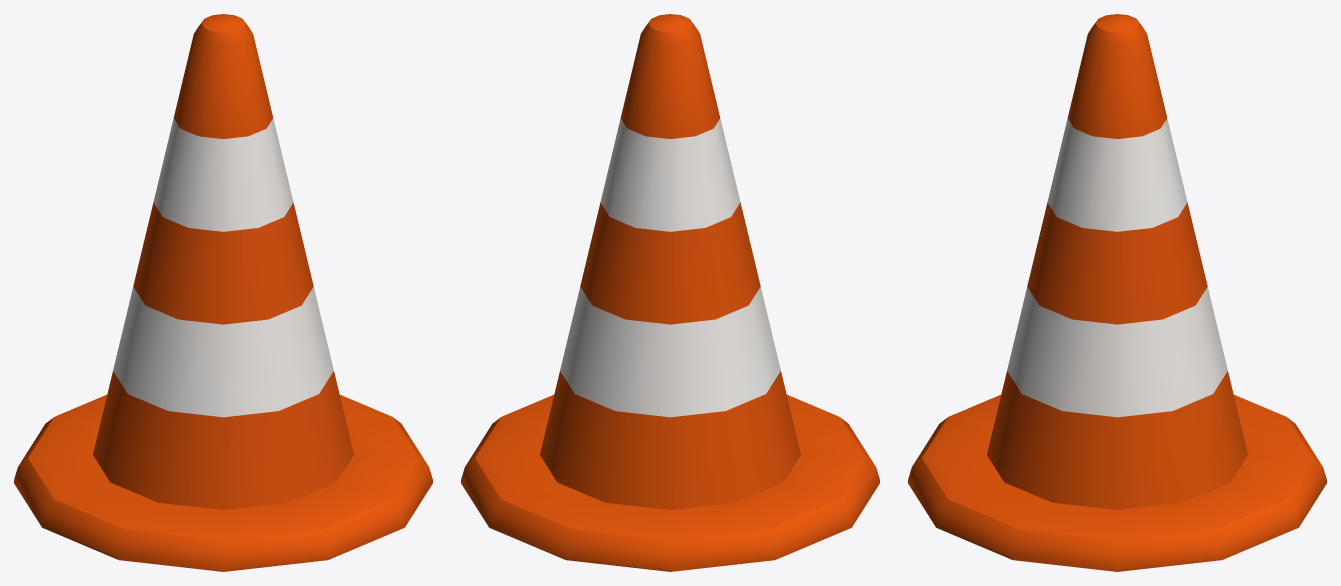
The model's file is trafik konisi.fbx.
The picture shows the model from 3 angles, left to right: view 1: azimuth 30°, elevation 25°; view 2: azimuth 150°, elevation 25°; view 3: azimuth 270°, elevation 25°; orthographic projection.
Parts seen in each view (by area): view 1: Circle; view 2: Circle; view 3: Circle.
Part boxes in pixels (x1,y1,x2,y2): Circle: [14, 14, 432, 571]; Circle: [461, 14, 879, 571]; Circle: [908, 14, 1326, 571].
Bounding box in the file's own units: 80.15 × 98.12 × 80.15.
Materials: 1 (1 with a texture image).
